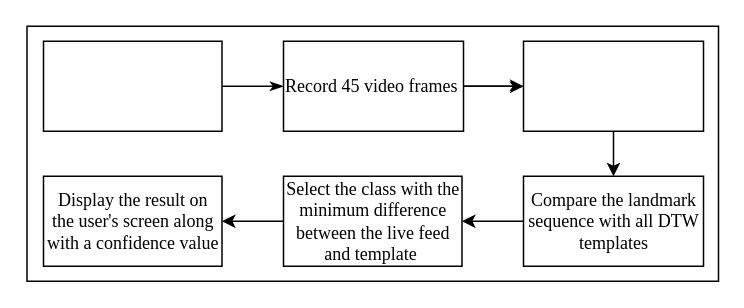
This 744x308 diagram has some shape labels left out. The centre of each missing label's shape, as x and y in pixels:
"Extract holistic landmarks" goes at (613,85).
"Live Video Feed (webcam)" goes at (132,85).
